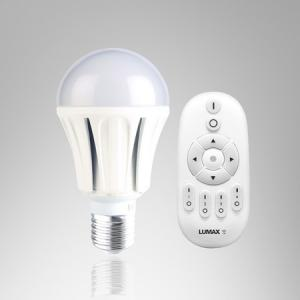Light_bulb: (55, 45, 172, 257)
